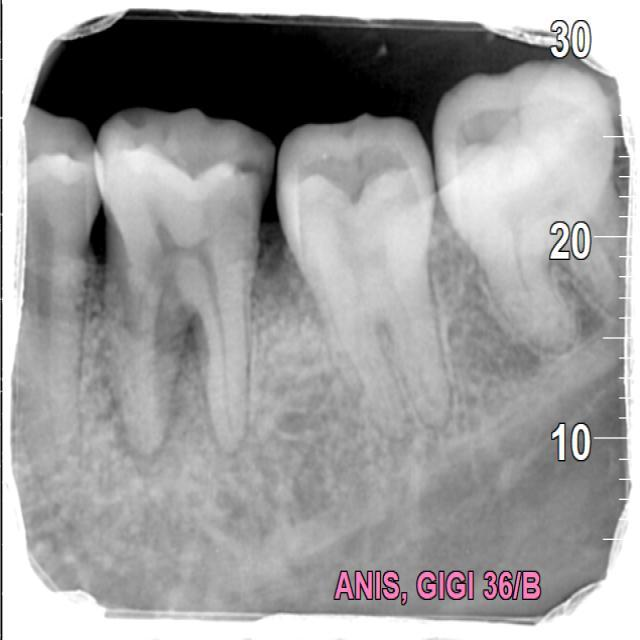individual-tooth-8tto: (95, 100, 280, 451), (271, 119, 457, 437)
